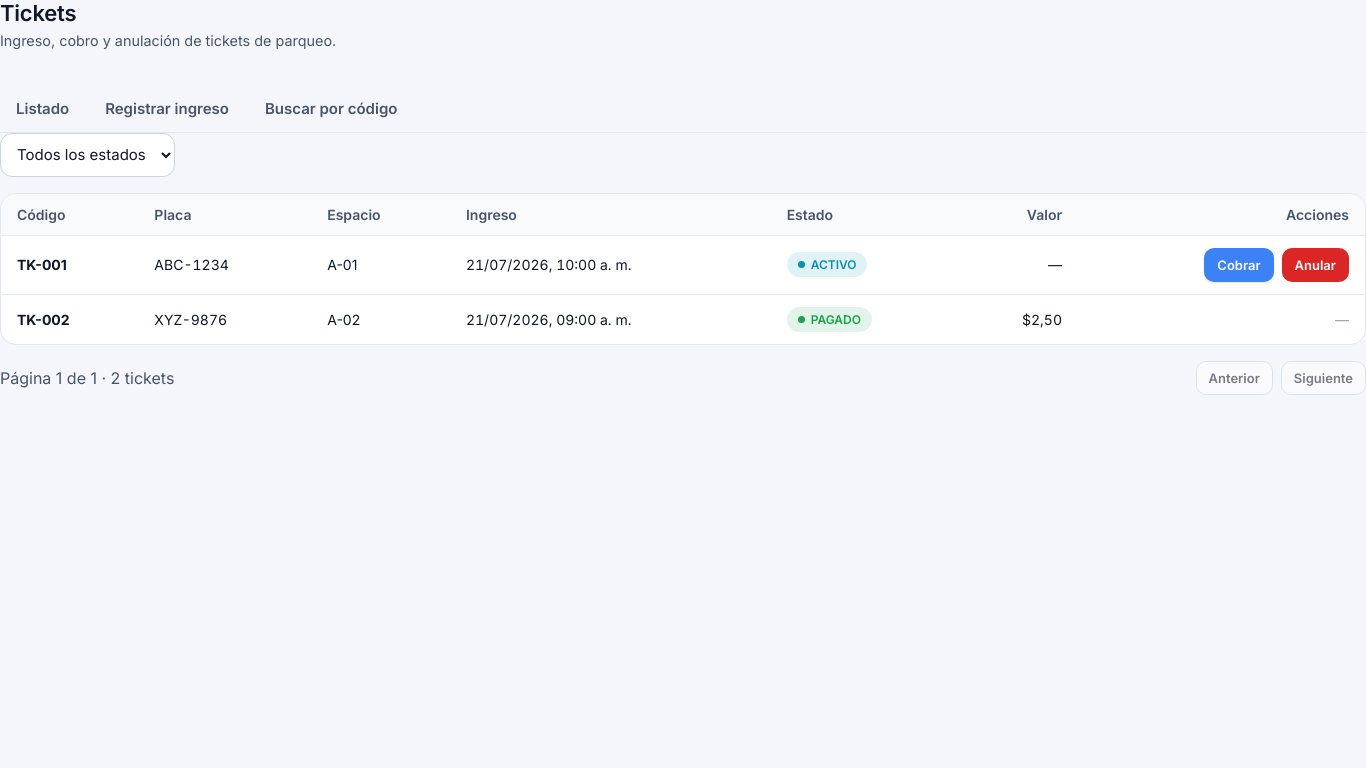
Test: TicketsPage › no anula con motivo corto (botón deshabilitado)
Expected: the text "TK-001" is shown, [17, 256, 67, 273]
Click the button "Anular" at (1315, 265), box [1282, 248, 1349, 282]
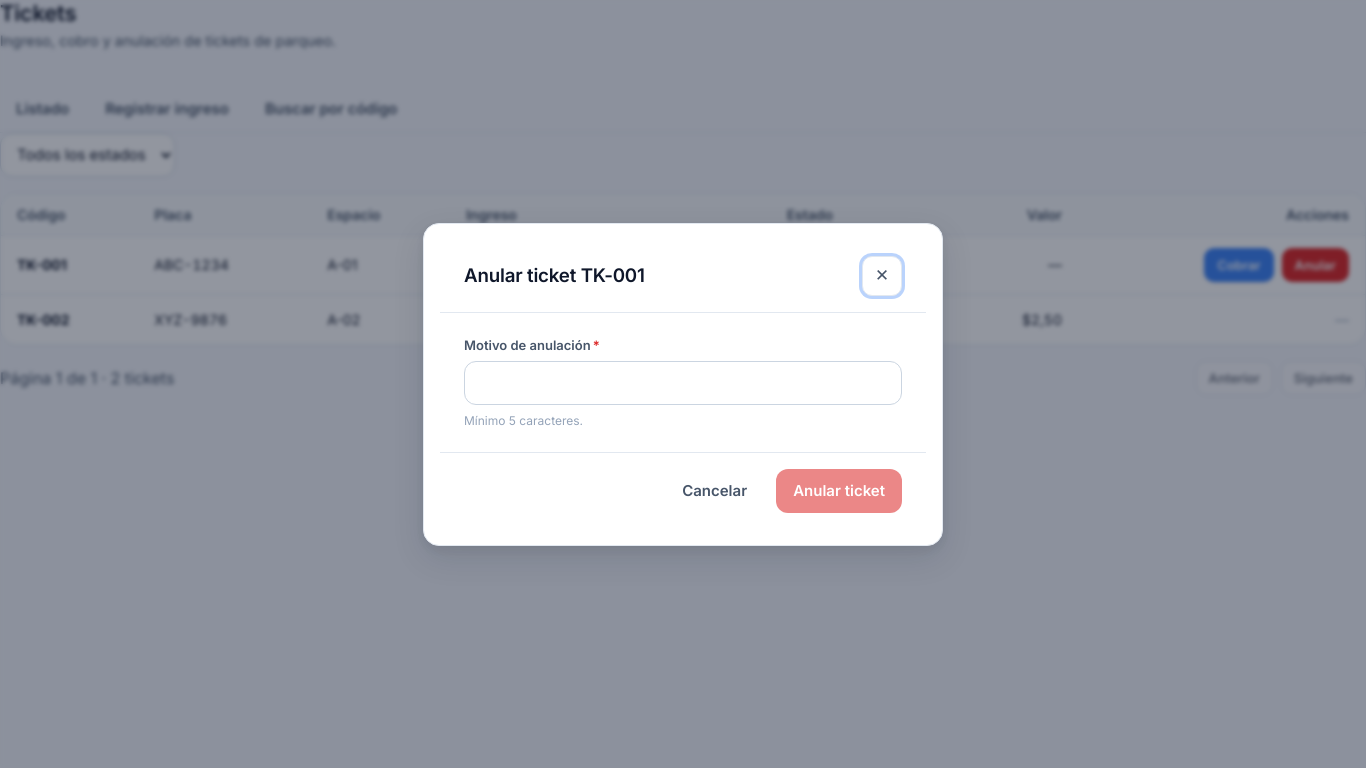
Expected: the field labelled "Motivo de anulación*" is shown, [464, 360, 902, 404]
Expected: the button "Anular ticket" is disabled, [776, 468, 902, 512]
